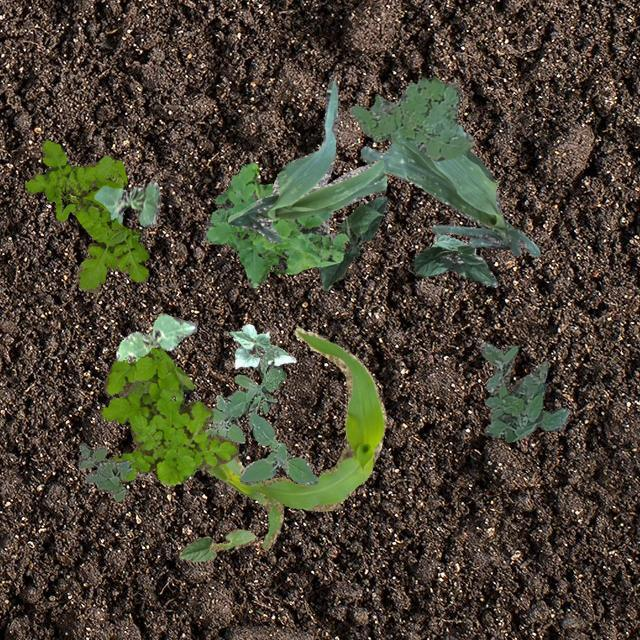crop: (207, 326, 386, 548), (226, 80, 384, 242), (360, 140, 538, 256), (316, 194, 386, 290), (412, 232, 496, 286), (116, 312, 196, 362), (92, 180, 160, 226), (228, 322, 294, 368), (178, 528, 255, 560)
weed: (99, 346, 238, 484), (24, 140, 148, 292), (202, 162, 348, 286), (204, 344, 318, 484), (348, 76, 474, 160), (478, 339, 568, 442), (77, 442, 132, 499)
